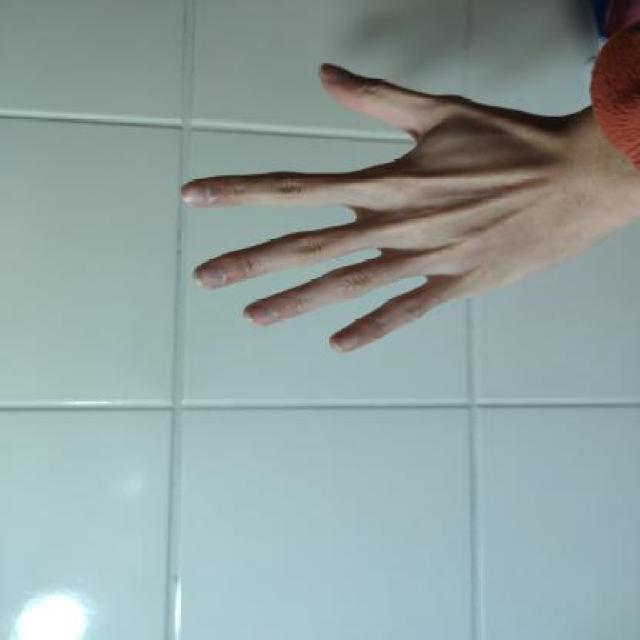bare_hand: (166, 57, 632, 366)
